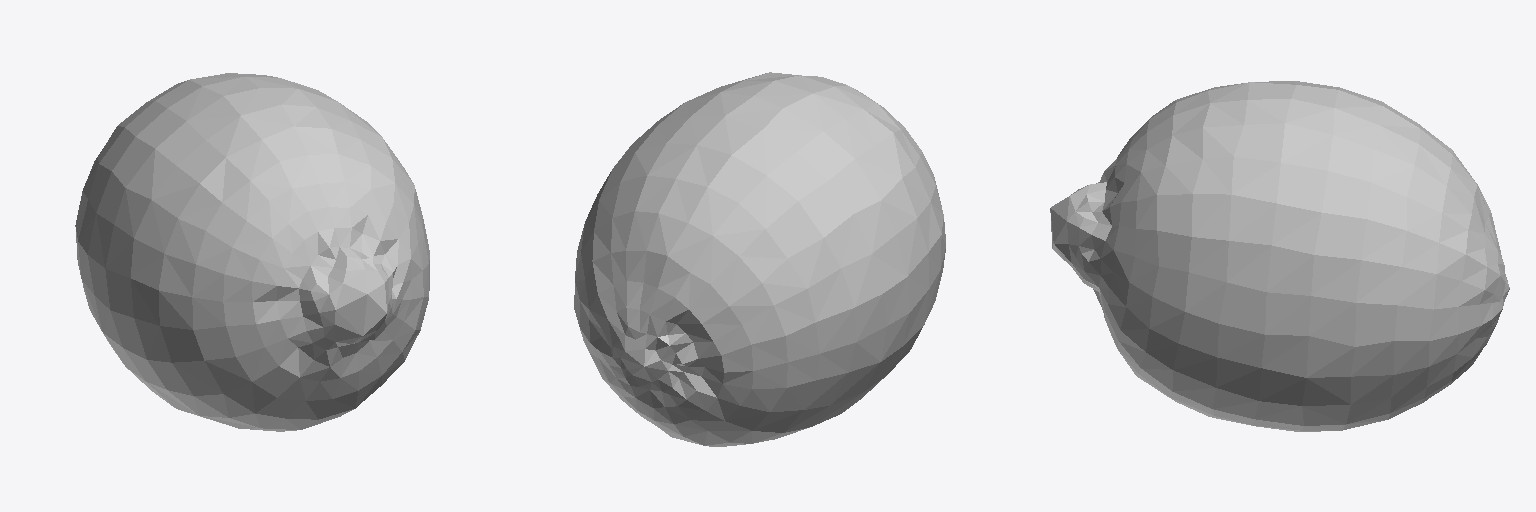
3 renders of one model, left to right at view 1: azimuth 30°, elevation 25°; view 2: azimuth 150°, elevation 25°; view 3: azimuth 270°, elevation 25°, orthographic.
Visible parts, largest first — view 1: lemon; view 2: lemon; view 3: lemon.
Boxes of the visible parts, x1,y1,x2,y2 form: lemon: [75, 73, 429, 431]; lemon: [574, 72, 945, 446]; lemon: [1050, 81, 1509, 431].
Bounding box in the file's own units: 0.061 × 0.065 × 0.0837.